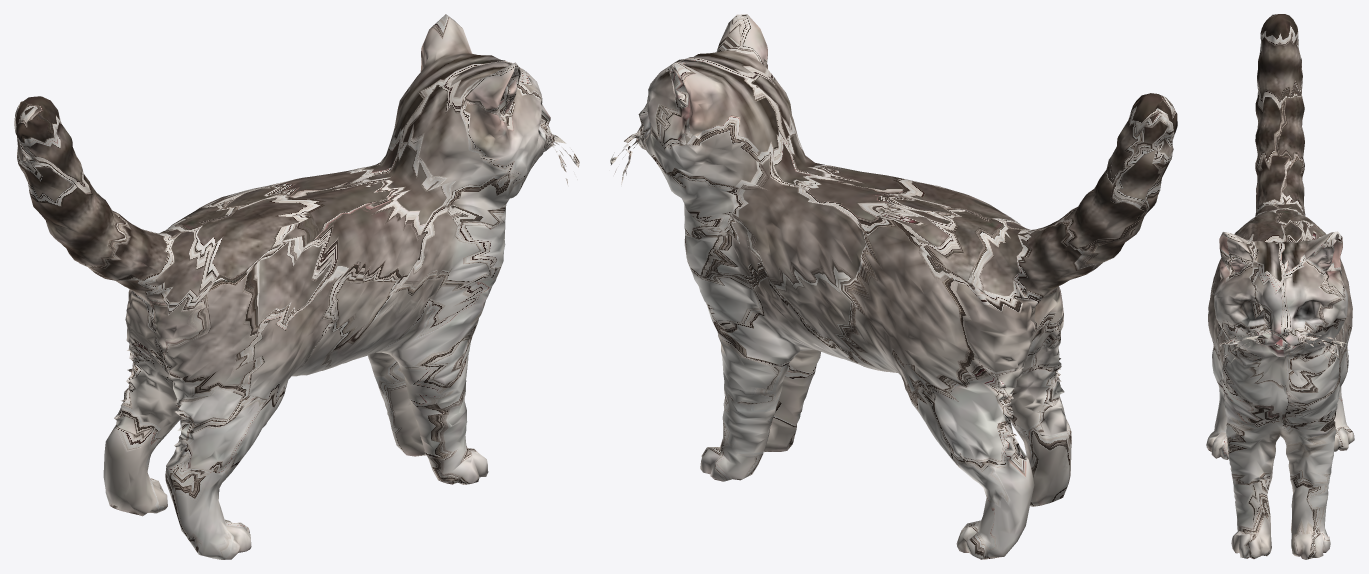
The model's file is NYAZCATS-lo.glb.
3 views of the same model, side by side, from view 1: azimuth 30°, elevation 25°; view 2: azimuth 150°, elevation 25°; view 3: azimuth 270°, elevation 25° (orthographic). The views are drawn at different scales.
Visible parts, largest first — view 1: tripo_node_7ea8e7d7-21b1-432a-8deb-6d2066e447f9; view 2: tripo_node_7ea8e7d7-21b1-432a-8deb-6d2066e447f9; view 3: tripo_node_7ea8e7d7-21b1-432a-8deb-6d2066e447f9.
Part boxes in pixels (left/top/right/bottom): tripo_node_7ea8e7d7-21b1-432a-8deb-6d2066e447f9: left=14, top=14, right=579, bottom=559; tripo_node_7ea8e7d7-21b1-432a-8deb-6d2066e447f9: left=610, top=14, right=1177, bottom=559; tripo_node_7ea8e7d7-21b1-432a-8deb-6d2066e447f9: left=1206, top=14, right=1354, bottom=559.
Size of the model in its own units: 1.19 by 0.999 by 0.3562.
Materials: 1 (1 with a texture image).
